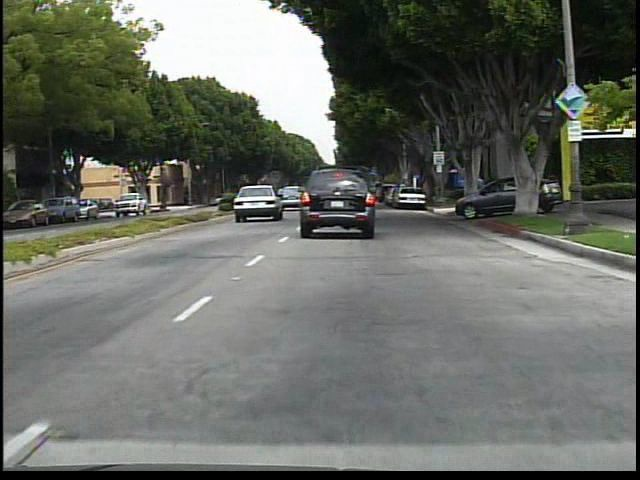person: (471, 170, 489, 209)
